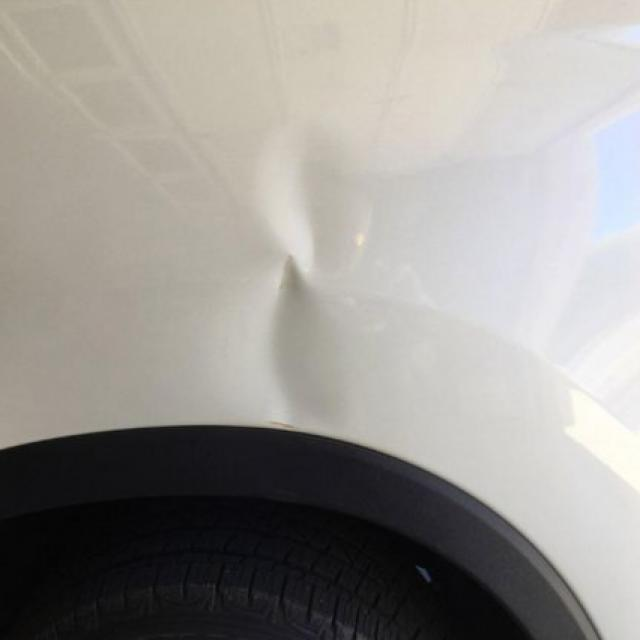dents: (229, 125, 409, 424)
